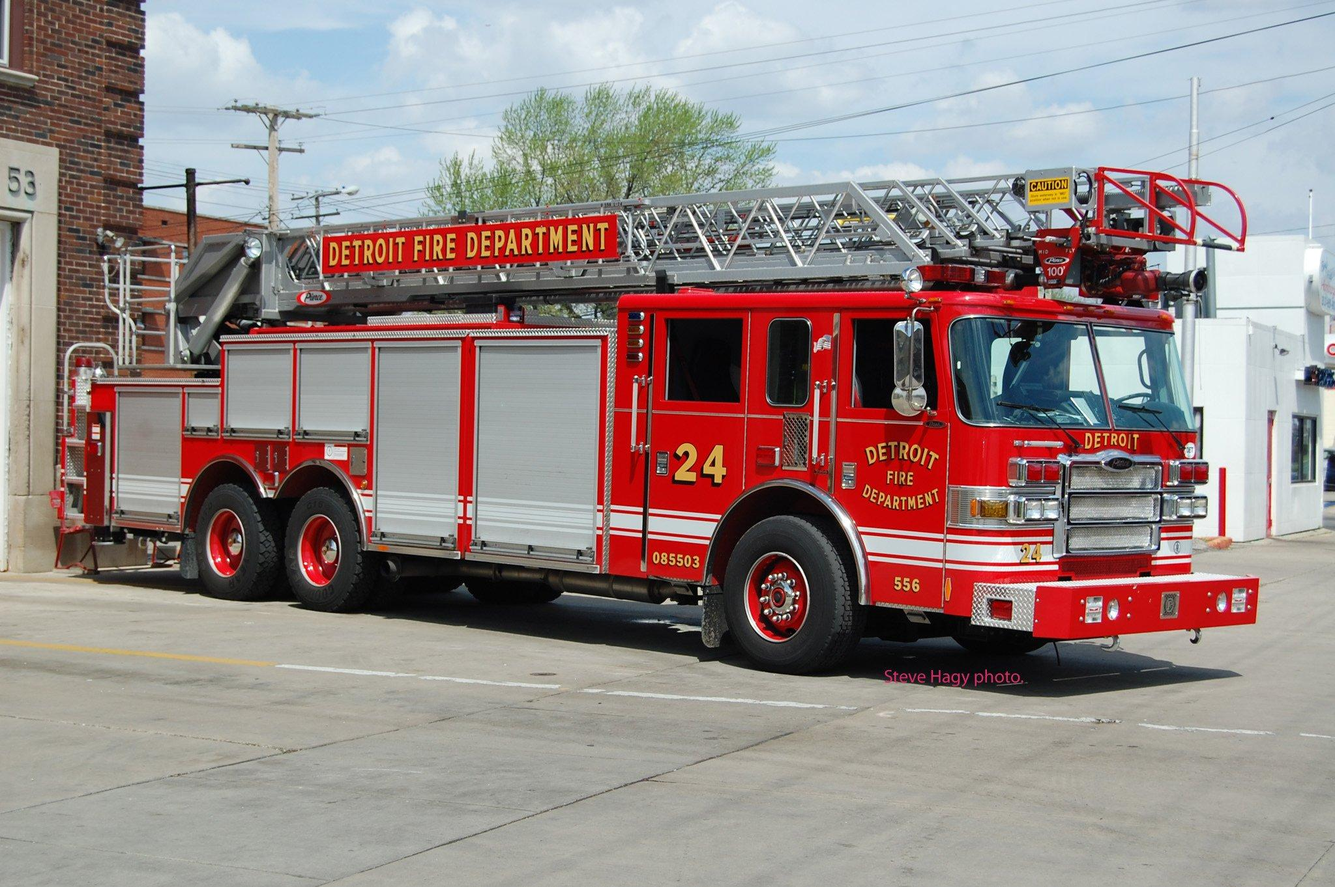Fire-engine: (50, 165, 1259, 673)
